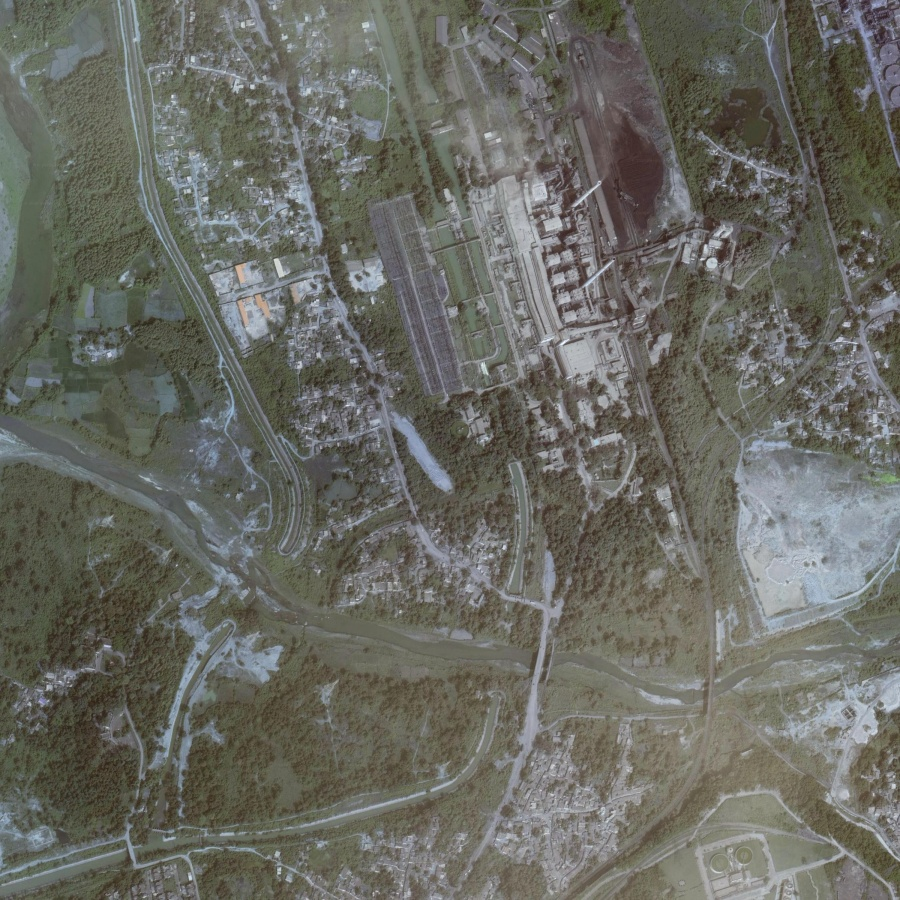PowerPlant: (477, 25, 674, 322)
